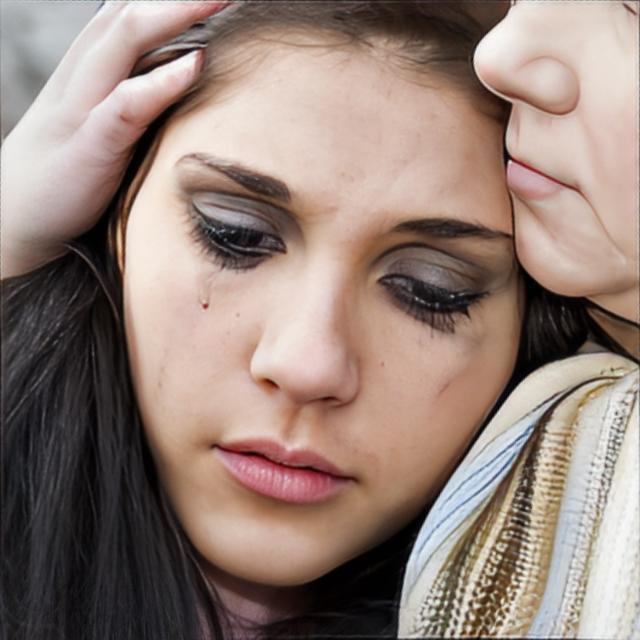sad: (113, 19, 533, 590)
